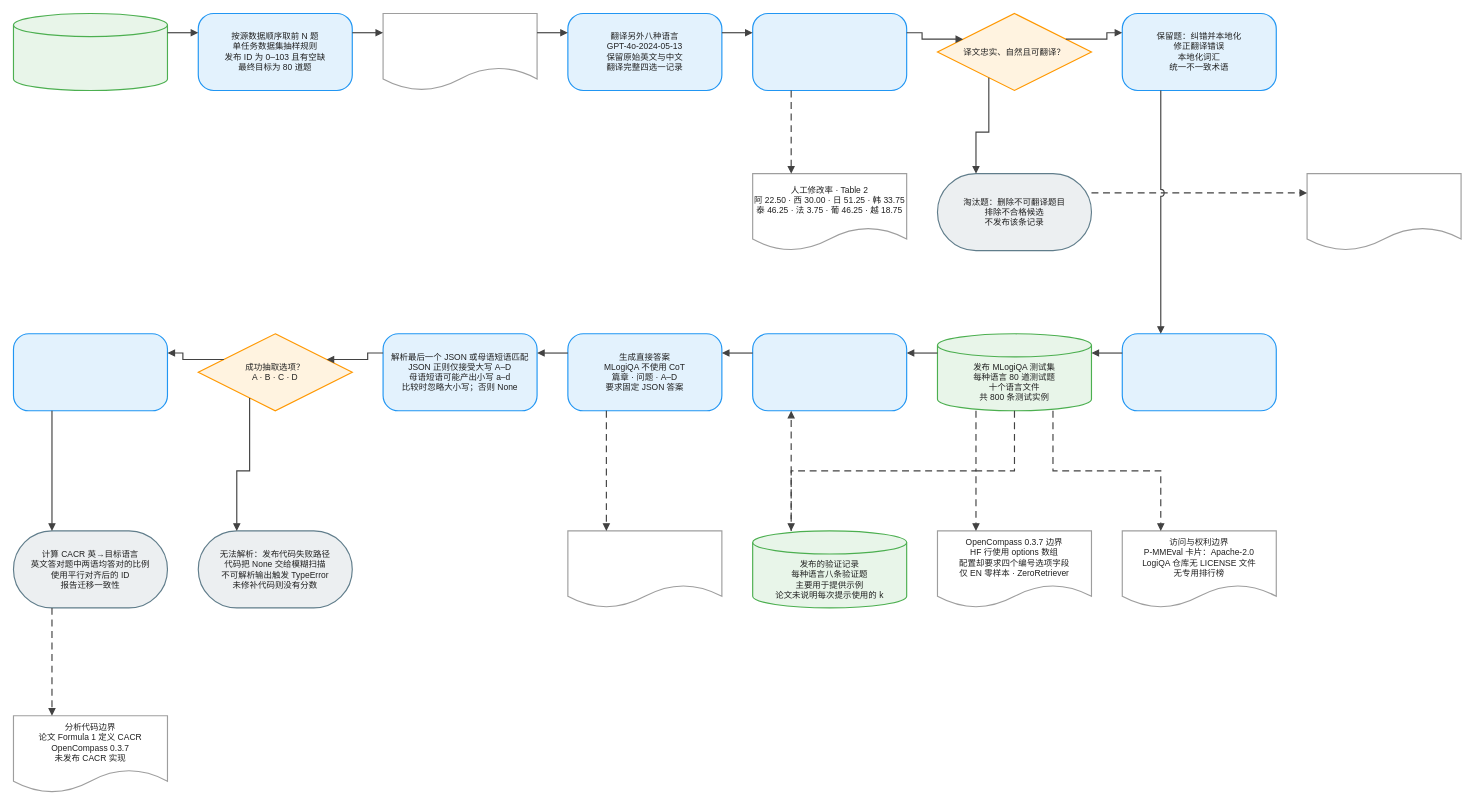
Some shapes in this 1475 by 807 pixel diagram are drawn without their labels. Here are the shapes that lost their labels. From the top down, the box of each, then its label:
(13, 13, 168, 91): LogiQA 原始测试题对 英文 651 题 · 中文 651 题 篇章 · 问题 · 四个选项 标准选项索引
(382, 13, 537, 91): 固定十种语言 英 · 中 · 阿 · 西 · 日 韩 · 泰 · 法 · 葡 · 越 覆盖七个语言家族
(752, 13, 907, 91): 专业翻译团队复核 穷尽式审核每条机器译文 检查含义与术语 检查文化适配性
(1306, 173, 1461, 251): 选择边界 删除后如何补充题目 论文未披露规则 以发布 ID 确定最终集合
(13, 333, 168, 411): 已抽取：计算各语言准确率 正确选项数 ÷ 全部 80 题 错误选项计 0 分 百分比保留两位小数
(752, 333, 907, 411): 比较三种提示设定 EN · 英文指令 Native · 目标语言指令 EN-Few-shot · 目标语言示例
(1121, 333, 1277, 411): 按 ID 对齐平行记录 连接前规范化 ID 类型 禁止按文件行序直接配对 各语言 ID 集与标准答案一致
(567, 530, 722, 608): 推理边界 解码参数未披露 论文未给出 MLogiQA 专用 温度或 Token 上限
